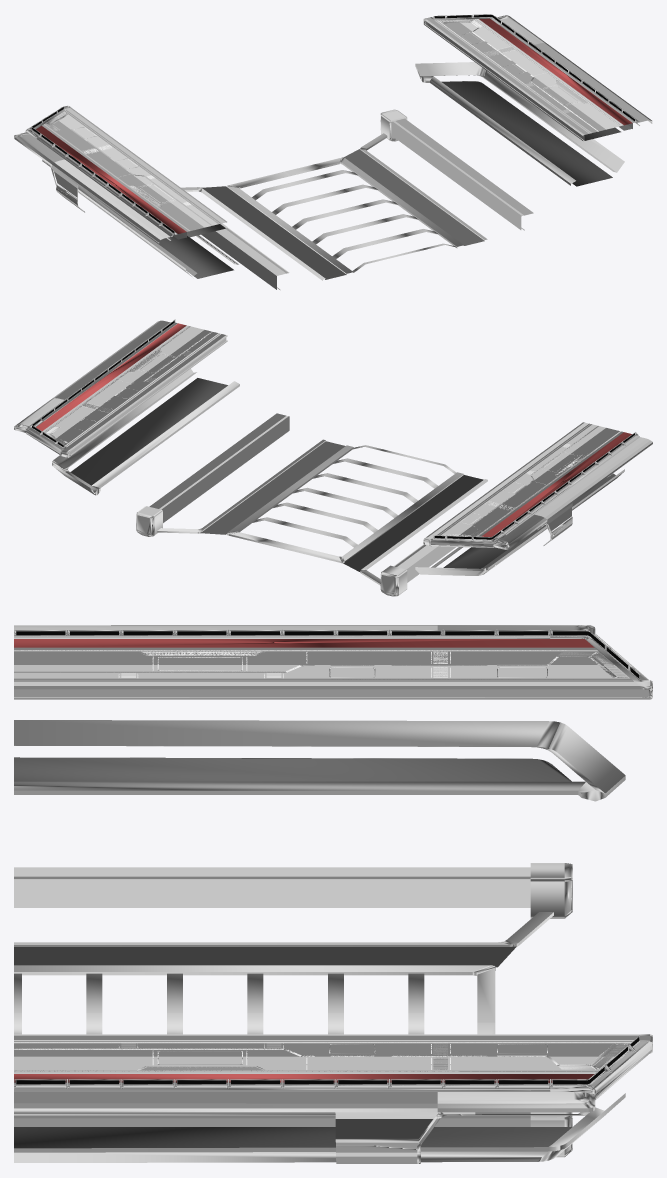
File: shipyard_platform_j_hull_c.glb
3 views of the same model, one above another, from view 1: azimuth 30°, elevation 25°; view 2: azimuth 150°, elevation 25°; view 3: azimuth 270°, elevation 25° (orthographic). The views are drawn at different scales.
Size of the model in its own units: 171 by 29.51 by 95.29.
